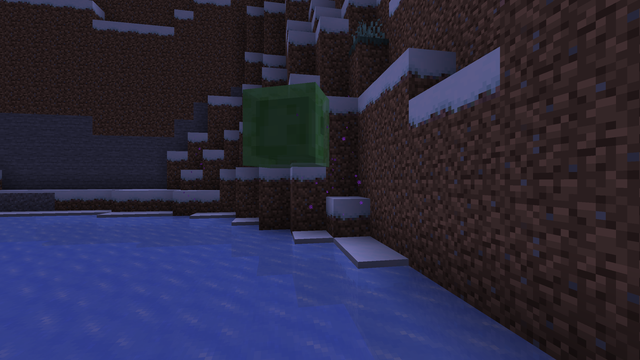slimes: (252, 79, 335, 168)
